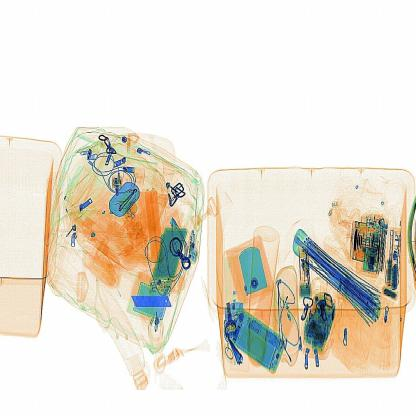pliers: (121, 289, 174, 319)
